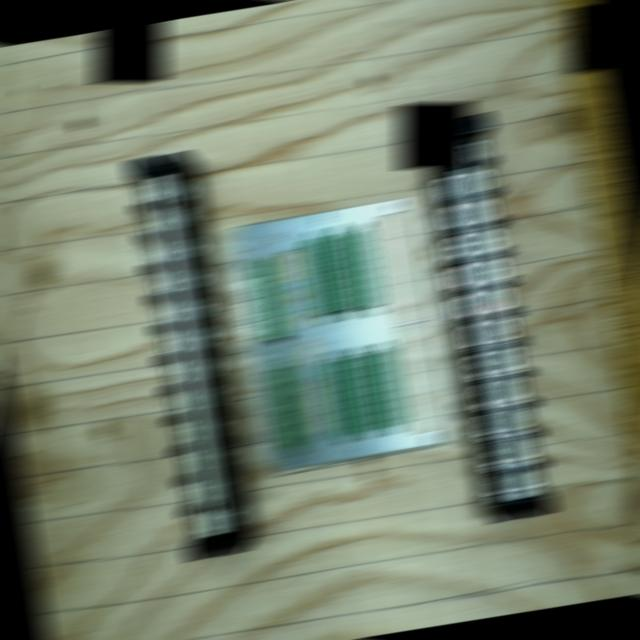Flathead_Block: (126, 152, 249, 559)
Phillips_Block: (429, 113, 555, 522)
Terminal_1: (252, 255, 290, 341), (270, 364, 308, 449)
Terminal_2: (320, 358, 358, 438), (302, 235, 339, 316), (325, 230, 362, 310), (346, 354, 383, 433), (371, 348, 407, 428)
